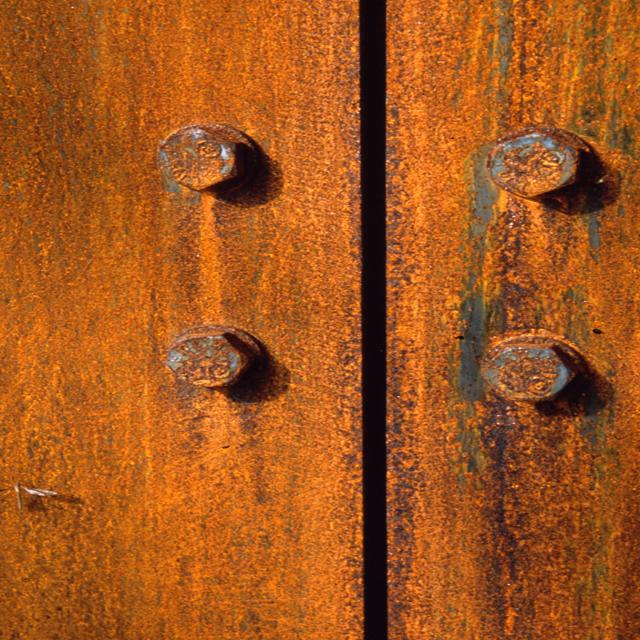bolt head: (488, 127, 590, 202), (156, 123, 255, 195), (477, 342, 581, 405), (159, 330, 261, 390)
